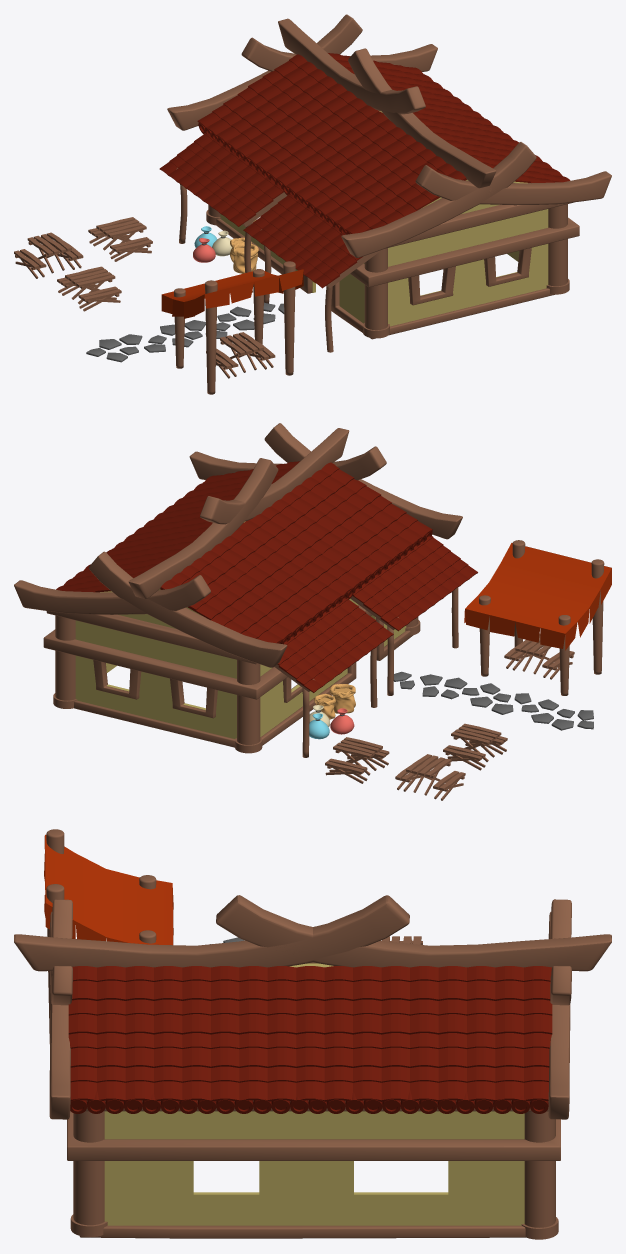
3 views of the same model, one above another, from view 1: azimuth 30°, elevation 25°; view 2: azimuth 150°, elevation 25°; view 3: azimuth 270°, elevation 25° (orthographic). The views are drawn at different scales.
Parts seen in each view (by area): view 1: Cube.190; view 2: Cube.190; view 3: Cube.190.
Boxes of the visible parts, bbox=[...] form: Cube.190: bbox=[14, 14, 611, 394]; Cube.190: bbox=[14, 423, 611, 800]; Cube.190: bbox=[14, 829, 611, 1239].
Size of the model in its own units: 273 by 110 by 214.
